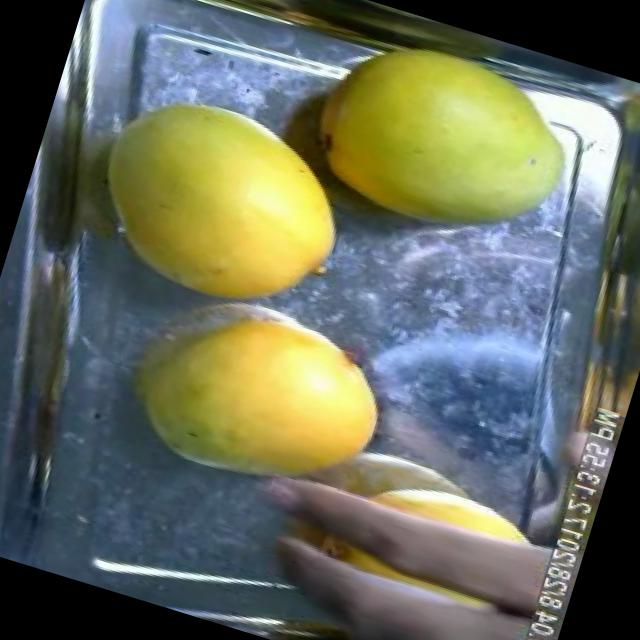fruit: (54, 61, 372, 346), (86, 263, 412, 537), (282, 8, 604, 276)
